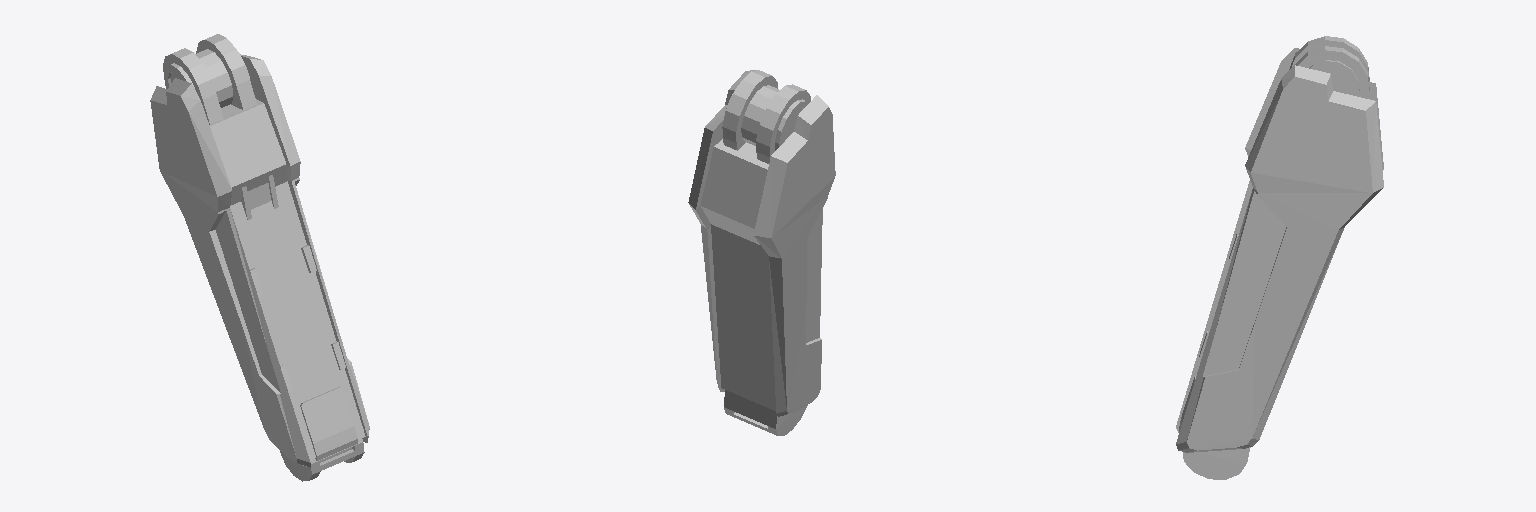
3 renders of one model, left to right at view 1: azimuth 30°, elevation 25°; view 2: azimuth 150°, elevation 25°; view 3: azimuth 270°, elevation 25°, orthographic.
Parts seen in each view (by area): view 1: FA1 hands polySurface443, FA1 hands polySurface442, FA1 hands polySurface441, polySurface311 FA1 hands, FA1 hands polySurface438, FA1 hands polySurface437, FA1 hands polySurface435, FA1 hands polySurface384; view 2: FA1 hands polySurface442, FA1 hands polySurface443, FA1 hands polySurface441, FA1 hands polySurface435, FA1 hands polySurface438, FA1 hands polySurface384, FA1 hands polySurface437; view 3: FA1 hands polySurface441, FA1 hands polySurface442, FA1 hands polySurface384, FA1 hands polySurface438, FA1 hands polySurface435, FA1 hands polySurface437.
Part boxes in pixels (x1,y1,x2,y2): FA1 hands polySurface443: (210, 99, 365, 459); FA1 hands polySurface442: (150, 78, 310, 467); FA1 hands polySurface441: (240, 54, 369, 442); polySurface311 FA1 hands: (300, 387, 357, 460); FA1 hands polySurface438: (196, 34, 256, 109); FA1 hands polySurface437: (163, 48, 223, 124); FA1 hands polySurface435: (164, 49, 249, 107); FA1 hands polySurface384: (280, 438, 364, 481); FA1 hands polySurface442: (754, 95, 835, 416); FA1 hands polySurface443: (700, 139, 775, 410); FA1 hands polySurface441: (688, 70, 755, 391); FA1 hands polySurface435: (724, 85, 807, 150); FA1 hands polySurface438: (722, 70, 777, 150); FA1 hands polySurface384: (724, 390, 807, 435); FA1 hands polySurface437: (756, 84, 810, 163); FA1 hands polySurface441: (1176, 65, 1383, 452); FA1 hands polySurface442: (1176, 48, 1383, 432); FA1 hands polySurface384: (1183, 447, 1250, 479); FA1 hands polySurface438: (1295, 46, 1369, 98); FA1 hands polySurface435: (1309, 60, 1359, 96); FA1 hands polySurface437: (1289, 36, 1369, 84).
Size of the model in its own units: 13.62 by 38.75 by 18.05.